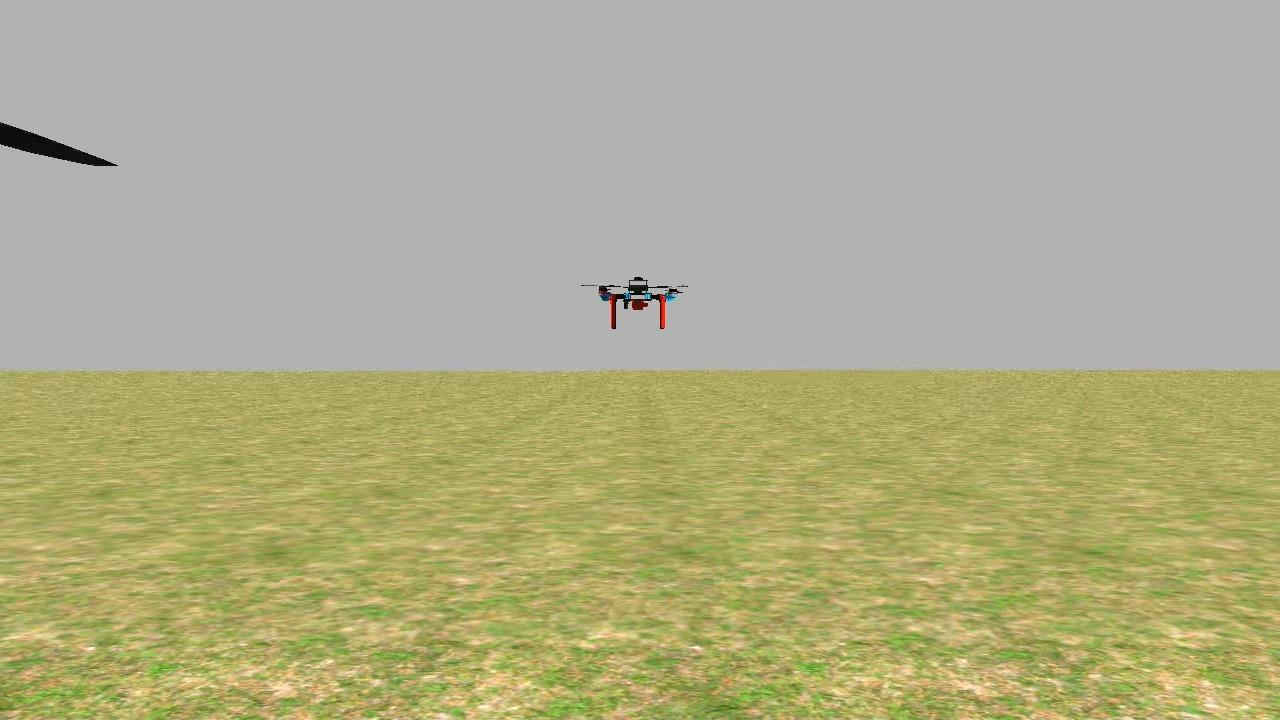UAV: (580, 258, 690, 330)
